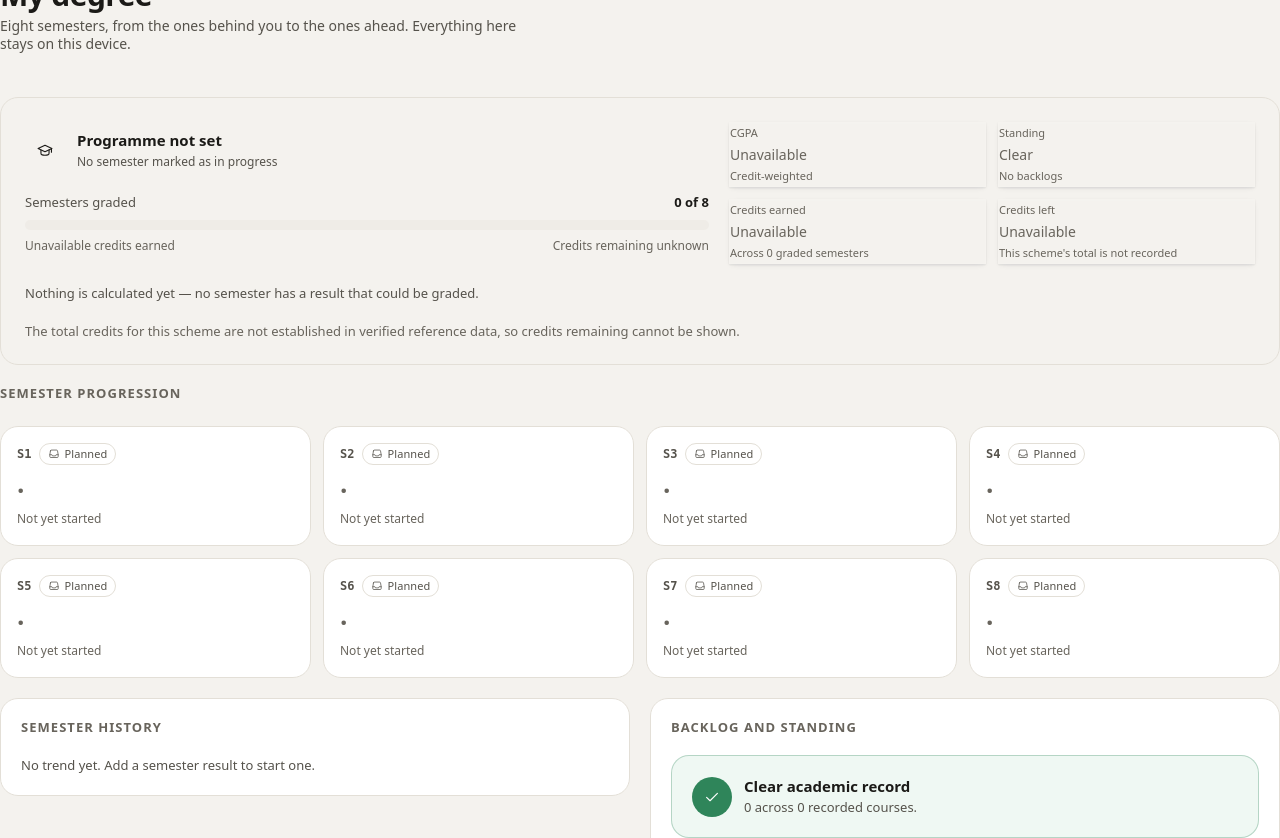
Test: semester subjects › survives a very long subject name without breaking the row
This screenshot has width=1280, height=838.
Click the button with aria-label "Semester 5," at (78, 586), box [0,558,311,678]
(page scrolled)
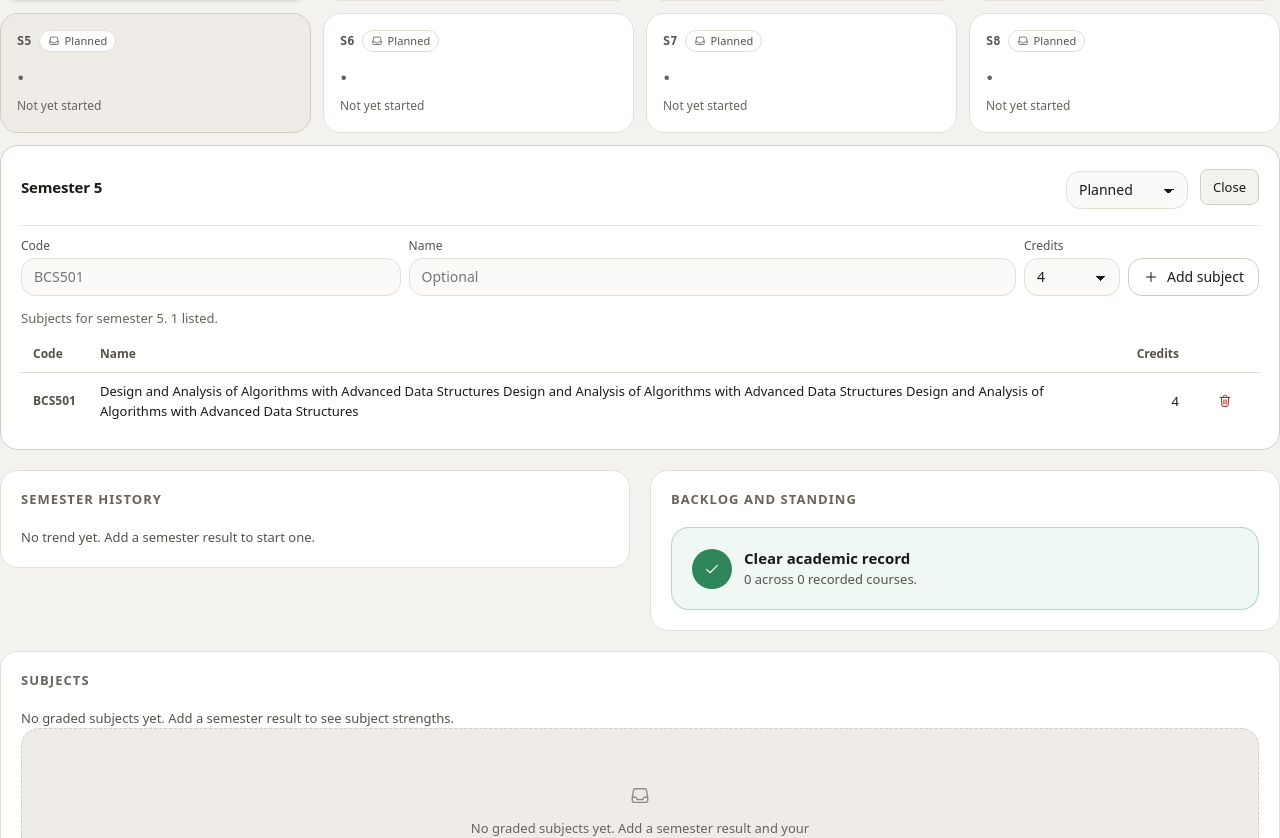
Result: the text "Design and Analysis of Algorithms" is shown at [100,382,1044,420]
